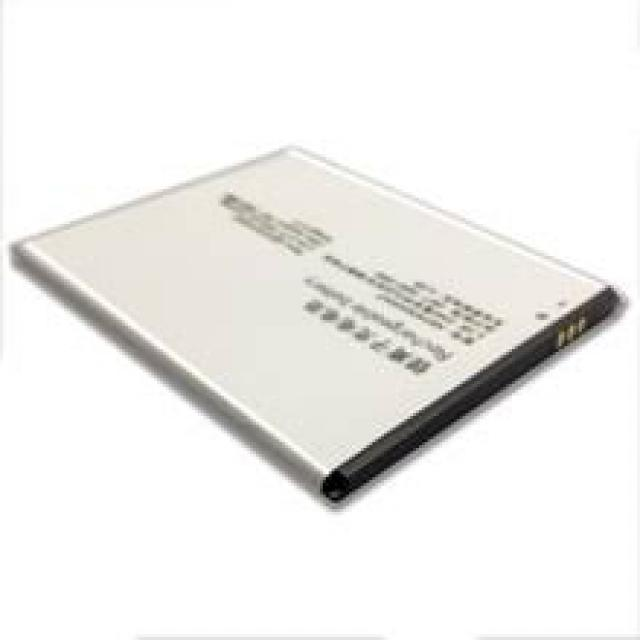non-organic waste: (13, 147, 615, 507)
